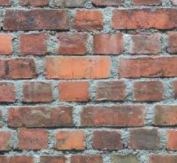brick: (44, 56, 113, 79), (111, 8, 177, 30), (5, 8, 70, 30), (8, 105, 73, 126), (79, 106, 146, 126), (117, 57, 177, 77), (54, 128, 88, 151), (55, 32, 90, 54), (1, 58, 38, 78), (19, 31, 51, 54), (21, 81, 54, 103), (130, 32, 164, 53), (92, 32, 124, 54), (17, 128, 49, 149), (128, 129, 162, 148), (94, 81, 126, 100), (133, 80, 164, 99), (75, 10, 104, 30), (62, 80, 91, 100), (94, 129, 123, 149), (154, 105, 177, 125), (1, 81, 17, 103), (1, 33, 15, 54)
